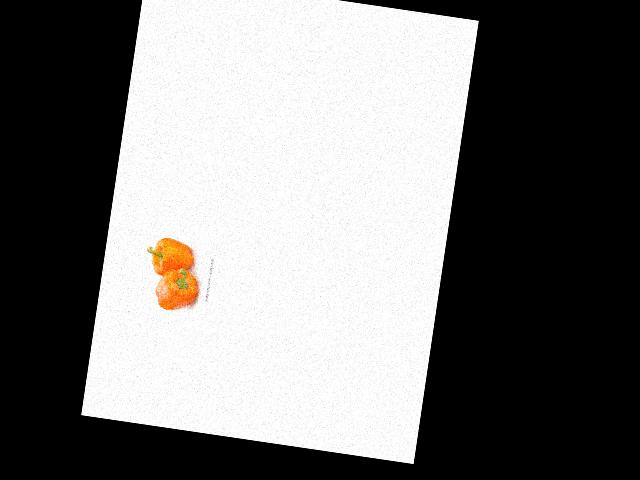bell_pepper: (151, 263, 205, 315)
